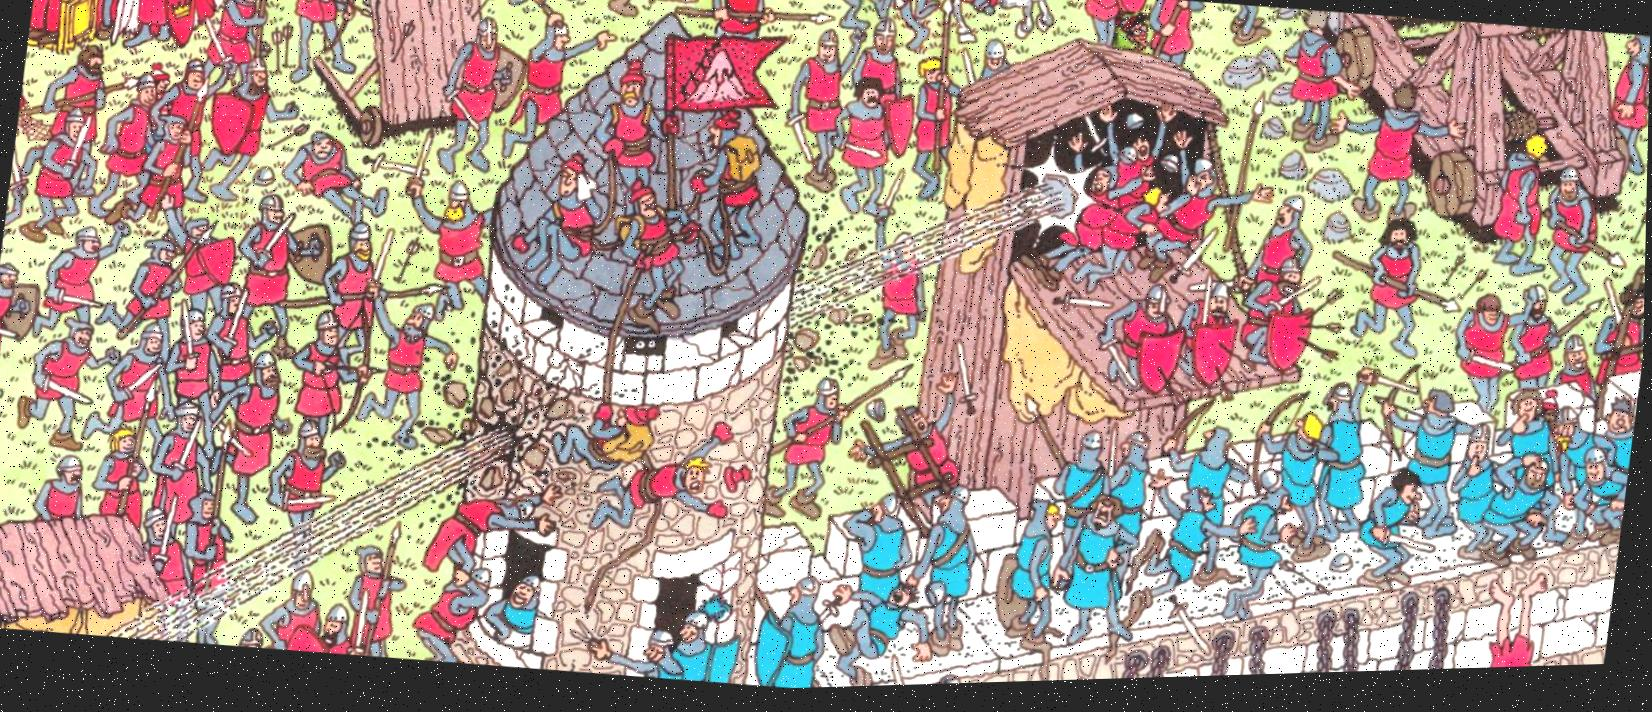waldo: (1112, 17, 1150, 60)
